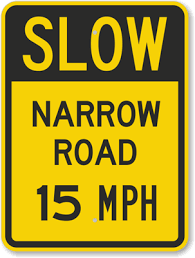narrow-road: (11, 81, 182, 245)
